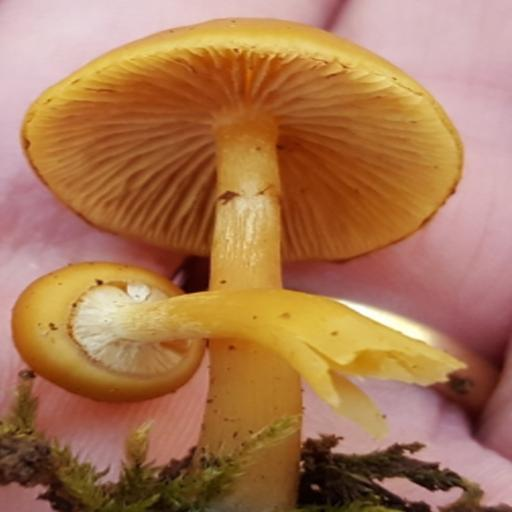mushroom: (17, 10, 502, 263), (3, 263, 469, 424)
